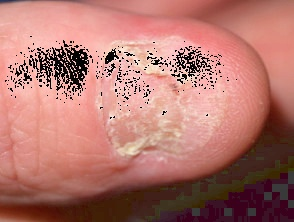Nail_psoriasis: (88, 31, 254, 170)
